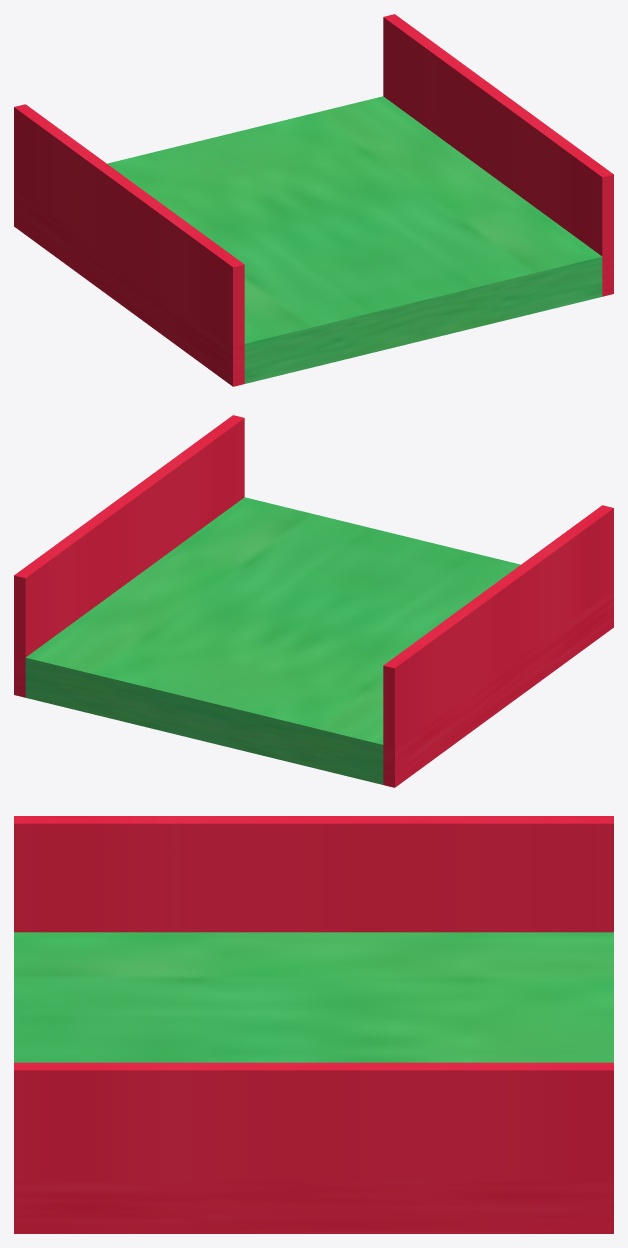
File: Simple_Road.fbx
3 views of the same model, one above another, from view 1: azimuth 30°, elevation 25°; view 2: azimuth 150°, elevation 25°; view 3: azimuth 270°, elevation 25° (orthographic). The views are drawn at different scales.
Parts seen in each view (by area): view 1: Simpe_Road, Fence; view 2: Simpe_Road, Fence; view 3: Fence, Simpe_Road.
Part boxes in pixels (box(x1,y1,x2,y2)): Simpe_Road: box(107, 96, 602, 383); Fence: box(14, 14, 613, 386); Simpe_Road: box(25, 497, 520, 784); Fence: box(14, 415, 613, 787); Fence: box(14, 816, 613, 1233); Simpe_Road: box(14, 932, 613, 1062).
Bounding box in the file's own units: 100 × 30.07 × 99.98.
